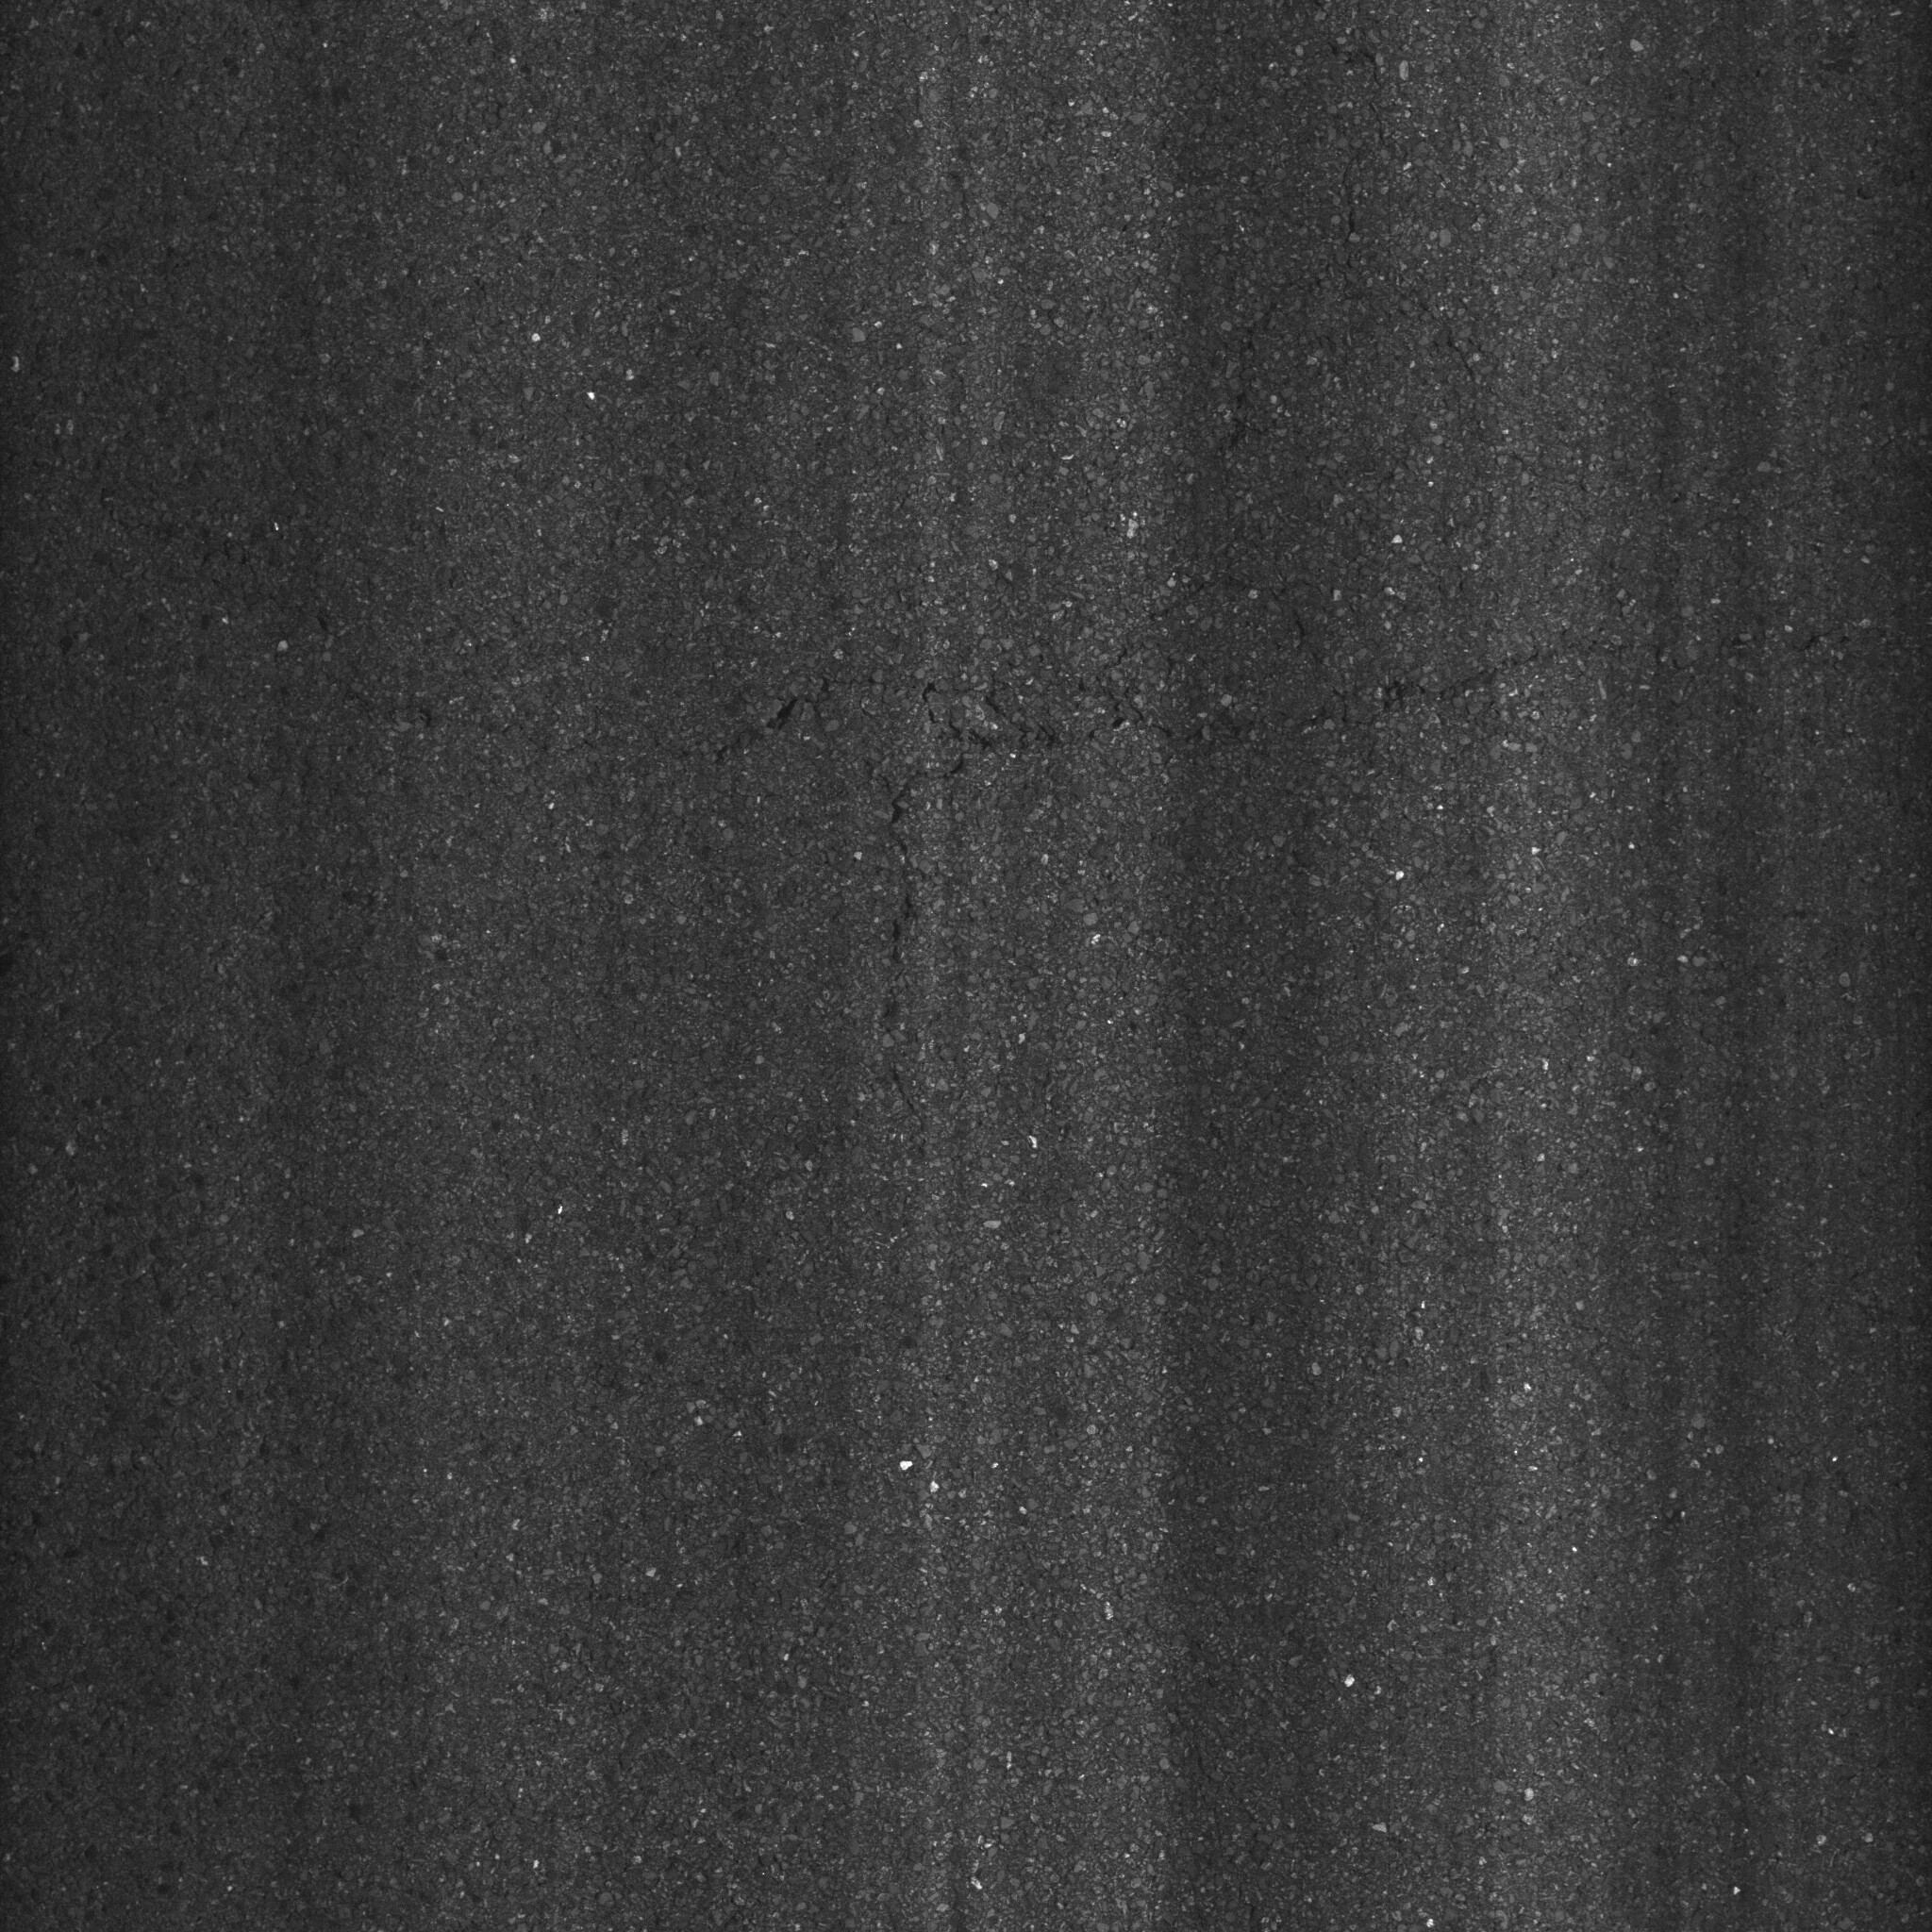transverse: (623, 616, 1773, 835)
